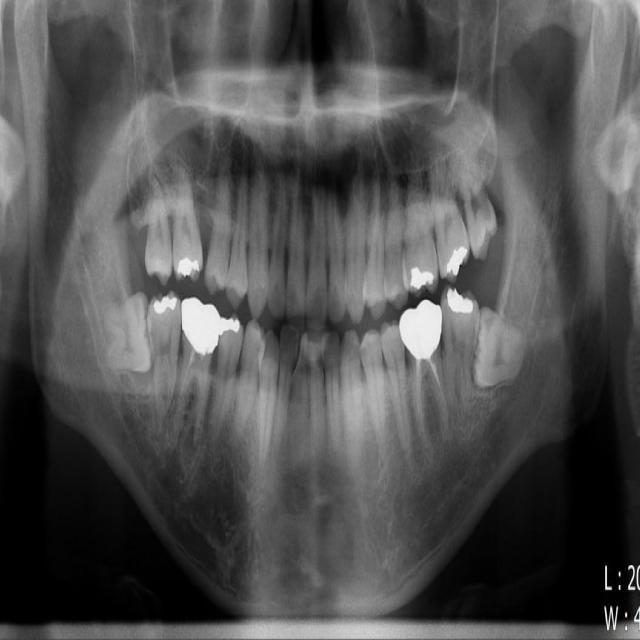52: (398, 297, 443, 361), (434, 216, 472, 281), (180, 297, 220, 355), (441, 288, 482, 344), (399, 245, 440, 293), (147, 289, 182, 336), (172, 234, 203, 280), (218, 316, 243, 356)
73: (167, 332, 216, 448), (407, 347, 454, 443), (601, 561, 609, 575)
BioHorizons Implant: (424, 147, 473, 283)
BioLife Implant: (445, 128, 505, 261)
Biomet 3i Implant: (469, 304, 526, 388)
Blue Sky Bio Implant: (437, 285, 484, 416)
Caries: (143, 175, 176, 284)
Implant: (146, 293, 180, 418)
Keystone Dental Implant: (99, 290, 155, 376)
